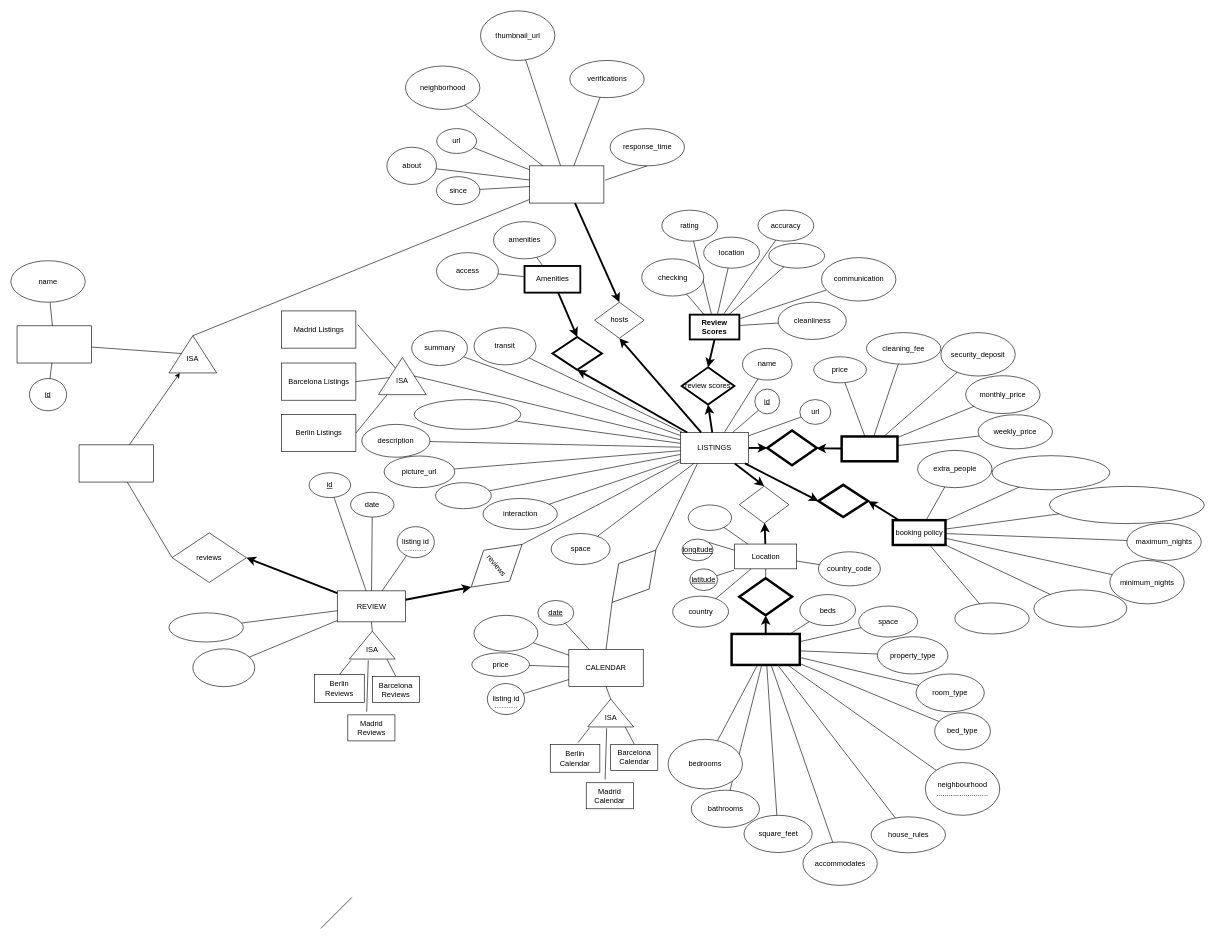
Some shapes in this 1215 by 940 pixel diagram are drawn without their labels. The shapes that lost their labels are listed below. From the top down, each one's centre as x and y in pixels, then its label:
pixel 566 184: HOST
pixel 796 255: value
pixel 53 344: user
pixel 577 353: has amenities
pixel 467 414: neighborhood_overview
pixel 115 463: reviewer
pixel 792 447: costs
pixel 869 448: Pricing
pixel 1050 472: is_business_travel_ready
pixel 463 495: notes
pixel 764 504: locates in
pixel 843 500: requires
pixel 1126 505: require_guest_profile_picture
pixel 710 517: city
pixel 633 576: date informations
pixel 765 596: in house
pixel 205 627: listing_id
pixel 991 618: guests_included
pixel 1080 608: cancellation_policy
pixel 505 633: available
pixel 765 649: House
pixel 223 667: comments
